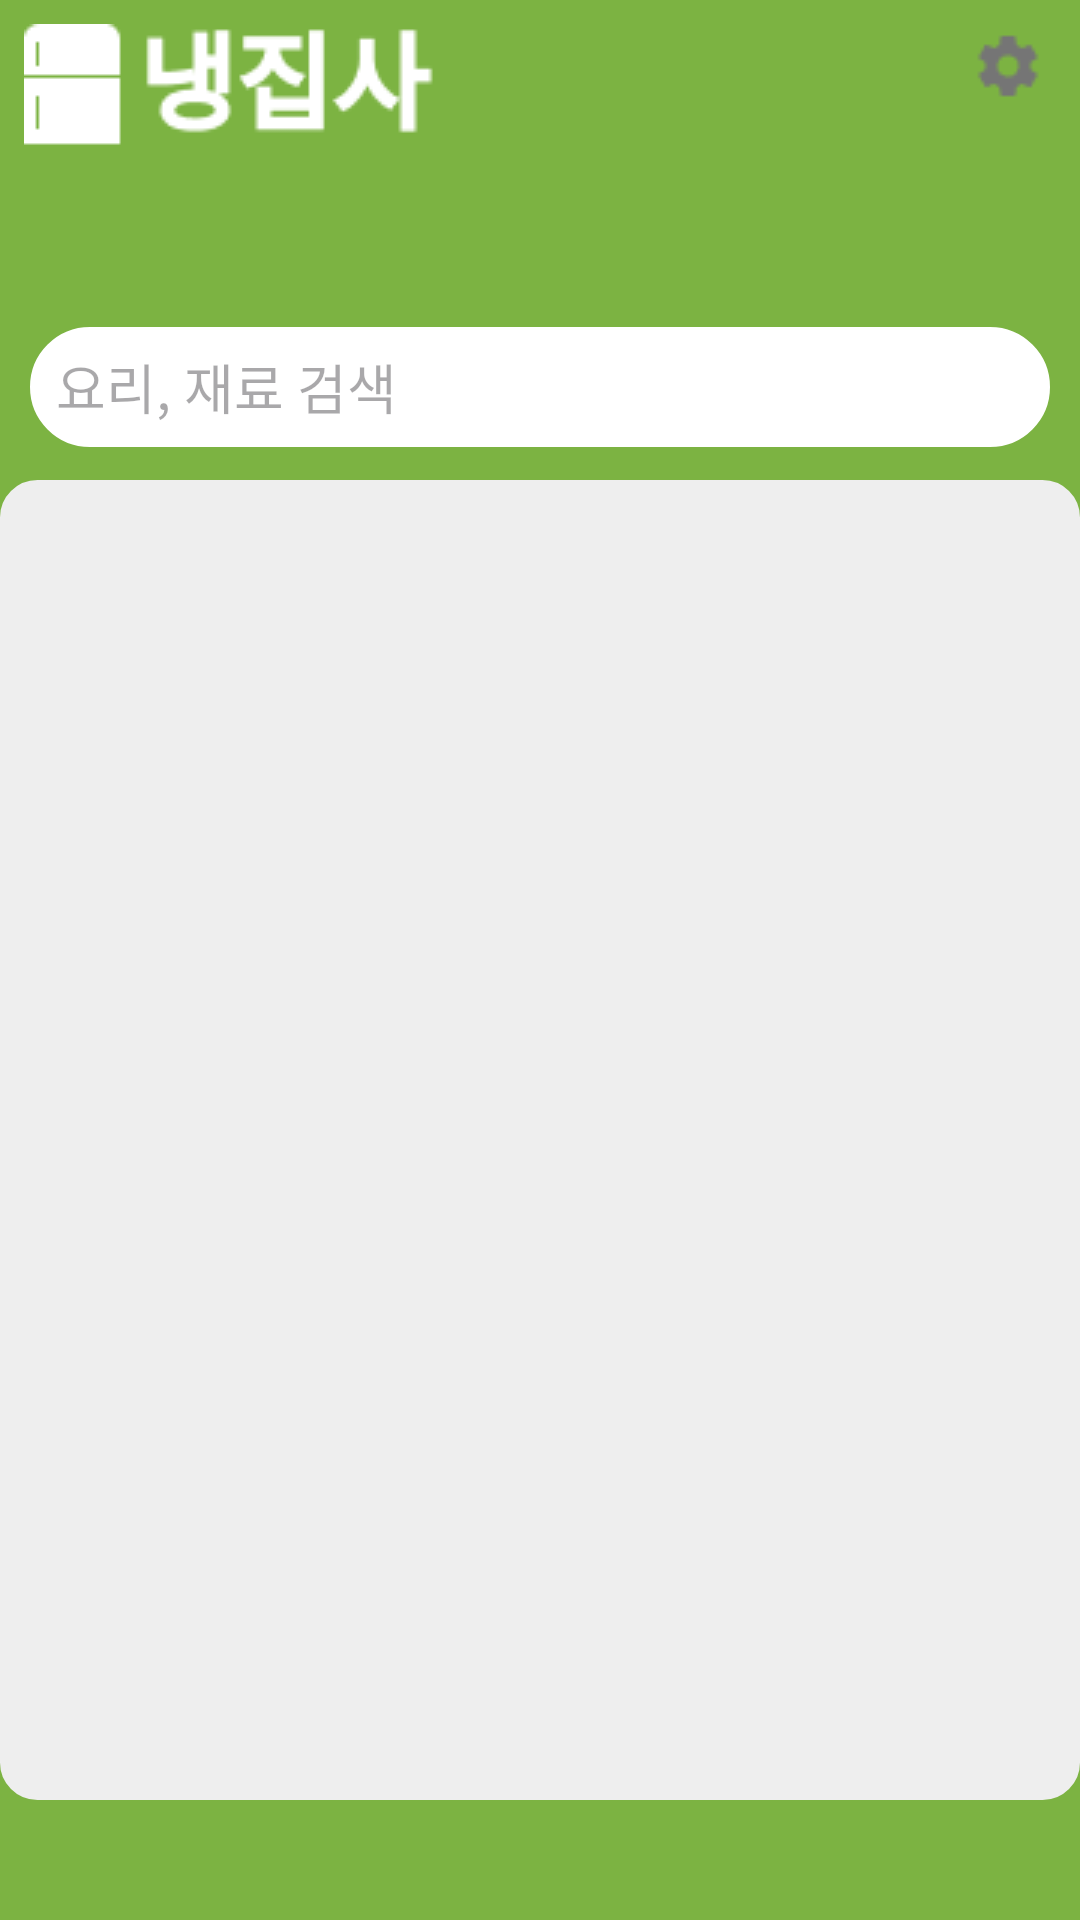

Icon bounding boxes for this 1080x1920 phone screenshot, format (x1, y1, x2, y2):
setting: (979, 36, 1037, 96)
